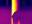Hotspot: (12, 0, 17, 14)
